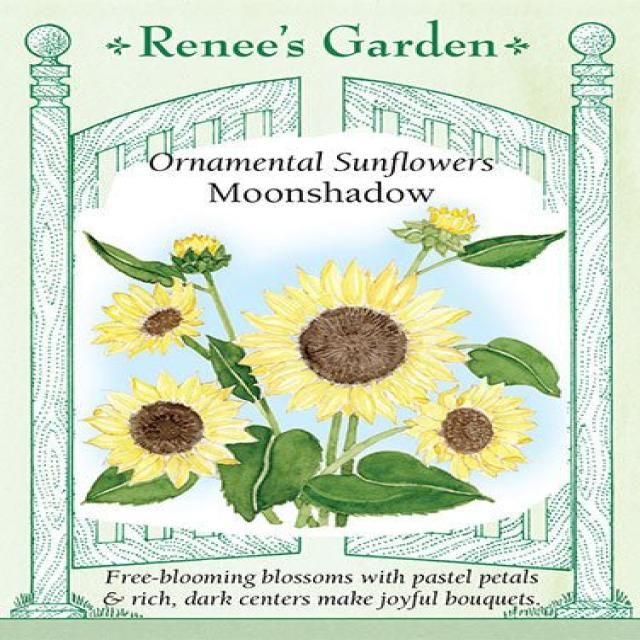sunflower: (232, 257, 472, 423), (83, 374, 257, 488), (402, 380, 536, 480), (90, 277, 204, 357), (426, 205, 478, 232), (173, 231, 221, 256)
